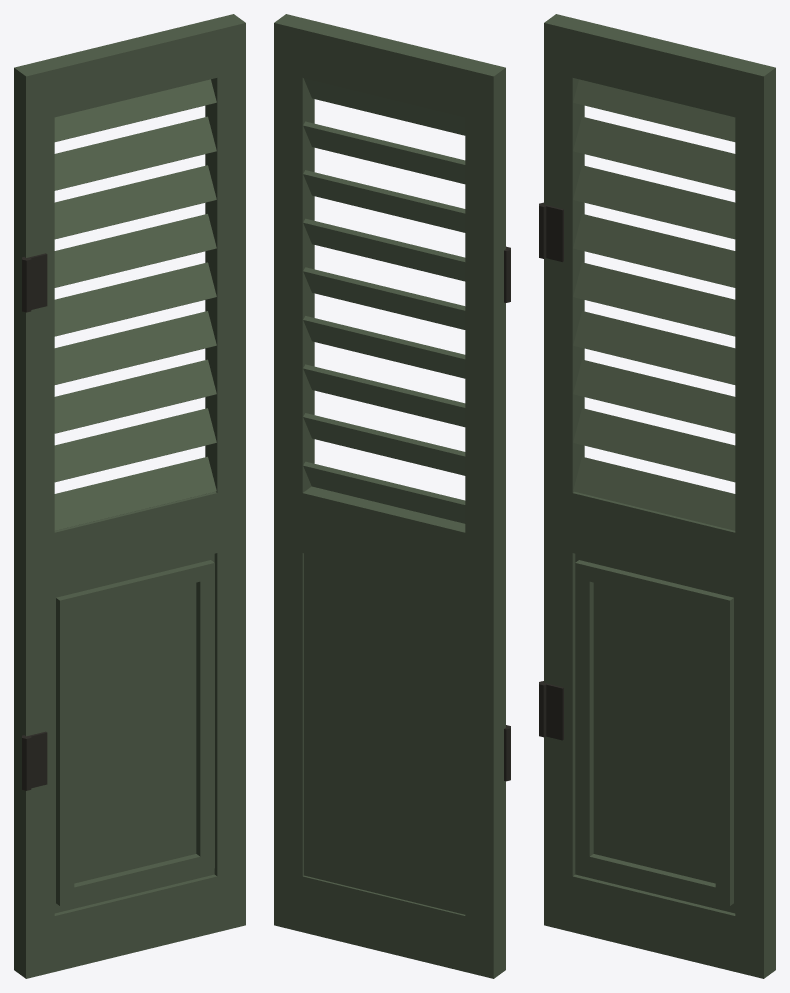
The model's file is SM_Wall_WoodDoor_Left_01.fbx.
The picture shows the model from 3 angles, left to right: view 1: azimuth 30°, elevation 25°; view 2: azimuth 150°, elevation 25°; view 3: azimuth 330°, elevation 25°; orthographic projection.
Visible parts, largest first — view 1: SM_Wall_WoodDoor_Left_01; view 2: SM_Wall_WoodDoor_Left_01; view 3: SM_Wall_WoodDoor_Left_01.
Boxes of the visible parts, x1=… form: SM_Wall_WoodDoor_Left_01: x1=14, y1=14, x2=245, y2=978; SM_Wall_WoodDoor_Left_01: x1=274, y1=14, x2=510, y2=978; SM_Wall_WoodDoor_Left_01: x1=539, y1=14, x2=775, y2=978.
Size of the model in its own units: 0.588 by 2.26 by 0.0674.
Materials: 1 (1 with a texture image).
